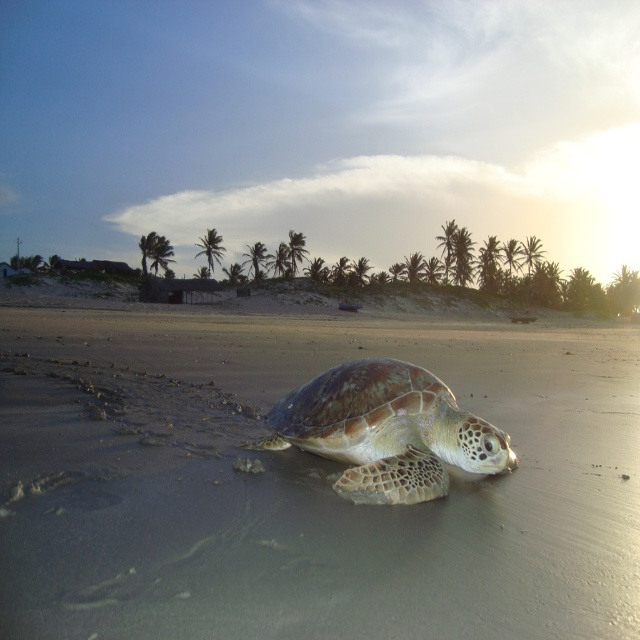Sea turtle: (250, 358, 524, 511)
